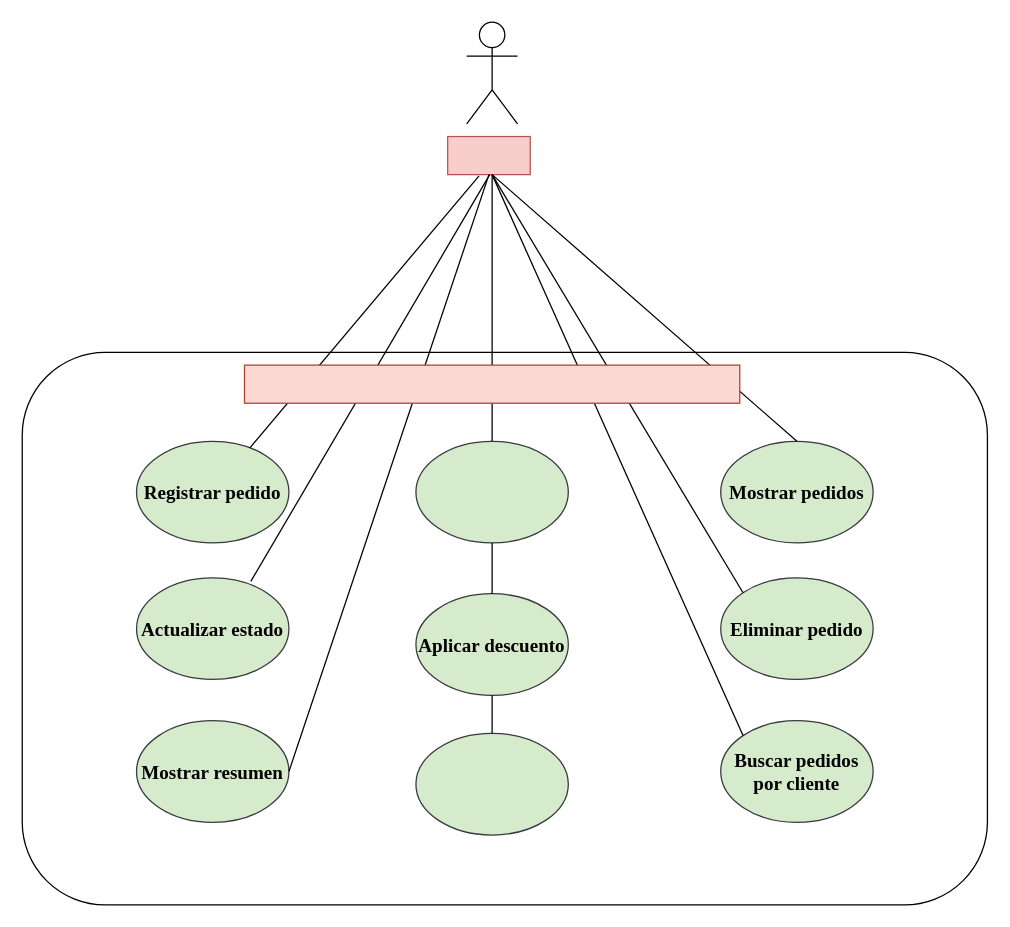
The diagram is 1010 pixels wide and 927 high, and some of its shapes have lost their labels. The shapes that lost their labels are listed below. From the top down, each one's centre as x and y in pixels, then its label:
the point at 488,155: Usuario
the point at 491,383: Sistema de Gestión de Pedidos para una Lavandería
the point at 491,491: Consultar pedido
the point at 491,783: Mostrar tarifas
